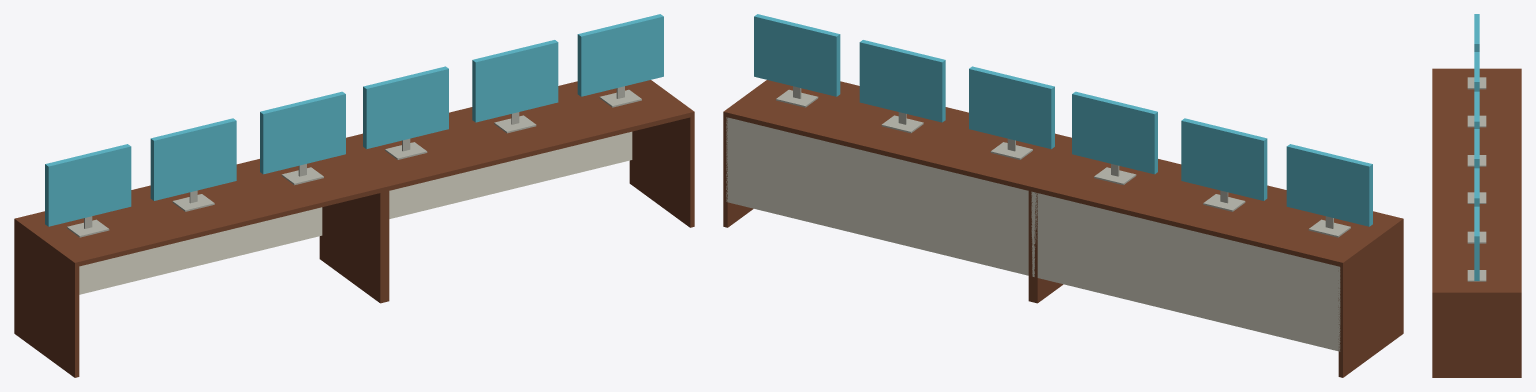
The model's file is computer_and_table_2.glb.
3 renders of one model, left to right at view 1: azimuth 30°, elevation 25°; view 2: azimuth 150°, elevation 25°; view 3: azimuth 270°, elevation 25°, orthographic. The views are drawn at different scales.
Parts seen in each view (by area): view 1: Cube, Cube.016, Cube.002, Cube.003, Cube.014, Cube.006, Cube.009, Cube.012, Cube.020, Cube.023, Cube.017, Cube.001 (+2 smaller); view 2: Cube.003, Cube.014, Cube, Cube.016, Cube.002, Cube.006, Cube.009, Cube.012, Cube.020, Cube.023, Cube.017, Cube.001 (+1 smaller); view 3: Cube.016, Cube, Cube.001, Cube.006, Cube.017, Cube.020, Cube.012, Cube.009, Cube.023, Cube.004, Cube.010, Cube.022 (+3 smaller).
Boxes of the visible parts, x1=… form: Cube: x1=14, y1=155, x2=385, y2=267; Cube.016: x1=340, y1=80, x2=694, y2=192; Cube.002: x1=14, y1=221, x2=79, y2=377; Cube.003: x1=79, y1=207, x2=322, y2=294; Cube.014: x1=389, y1=131, x2=632, y2=218; Cube.006: x1=577, y1=14, x2=663, y2=96; Cube.009: x1=45, y1=144, x2=131, y2=226; Cube.012: x1=472, y1=40, x2=558, y2=122; Cube.020: x1=150, y1=118, x2=236, y2=200; Cube.023: x1=260, y1=91, x2=345, y2=174; Cube.017: x1=363, y1=66, x2=448, y2=149; Cube.001: x1=629, y1=116, x2=694, y2=227; Cube.003: x1=1033, y1=192, x2=1340, y2=351; Cube.014: x1=726, y1=117, x2=1033, y2=276; Cube: x1=1032, y1=155, x2=1403, y2=267; Cube.016: x1=723, y1=80, x2=1077, y2=192; Cube.002: x1=1338, y1=221, x2=1403, y2=377; Cube.006: x1=754, y1=14, x2=840, y2=96; Cube.009: x1=1286, y1=144, x2=1372, y2=226; Cube.012: x1=859, y1=40, x2=945, y2=122; Cube.020: x1=1181, y1=118, x2=1267, y2=200; Cube.023: x1=1072, y1=91, x2=1157, y2=174; Cube.017: x1=969, y1=66, x2=1054, y2=149; Cube.001: x1=723, y1=114, x2=753, y2=227; Cube.016: x1=1432, y1=181, x2=1521, y2=294; Cube: x1=1432, y1=68, x2=1521, y2=181; Cube.001: x1=1432, y1=294, x2=1521, y2=377; Cube.006: x1=1474, y1=206, x2=1479, y2=280; Cube.017: x1=1474, y1=129, x2=1479, y2=168; Cube.020: x1=1474, y1=52, x2=1479, y2=91; Cube.012: x1=1474, y1=168, x2=1479, y2=206; Cube.009: x1=1474, y1=14, x2=1479, y2=51; Cube.023: x1=1474, y1=91, x2=1479, y2=128; Cube.004: x1=1467, y1=231, x2=1486, y2=243; Cube.010: x1=1467, y1=77, x2=1486, y2=89; Cube.022: x1=1467, y1=115, x2=1486, y2=127.
Size of the model in its own units: 8.4 by 2.46 by 1.42.
